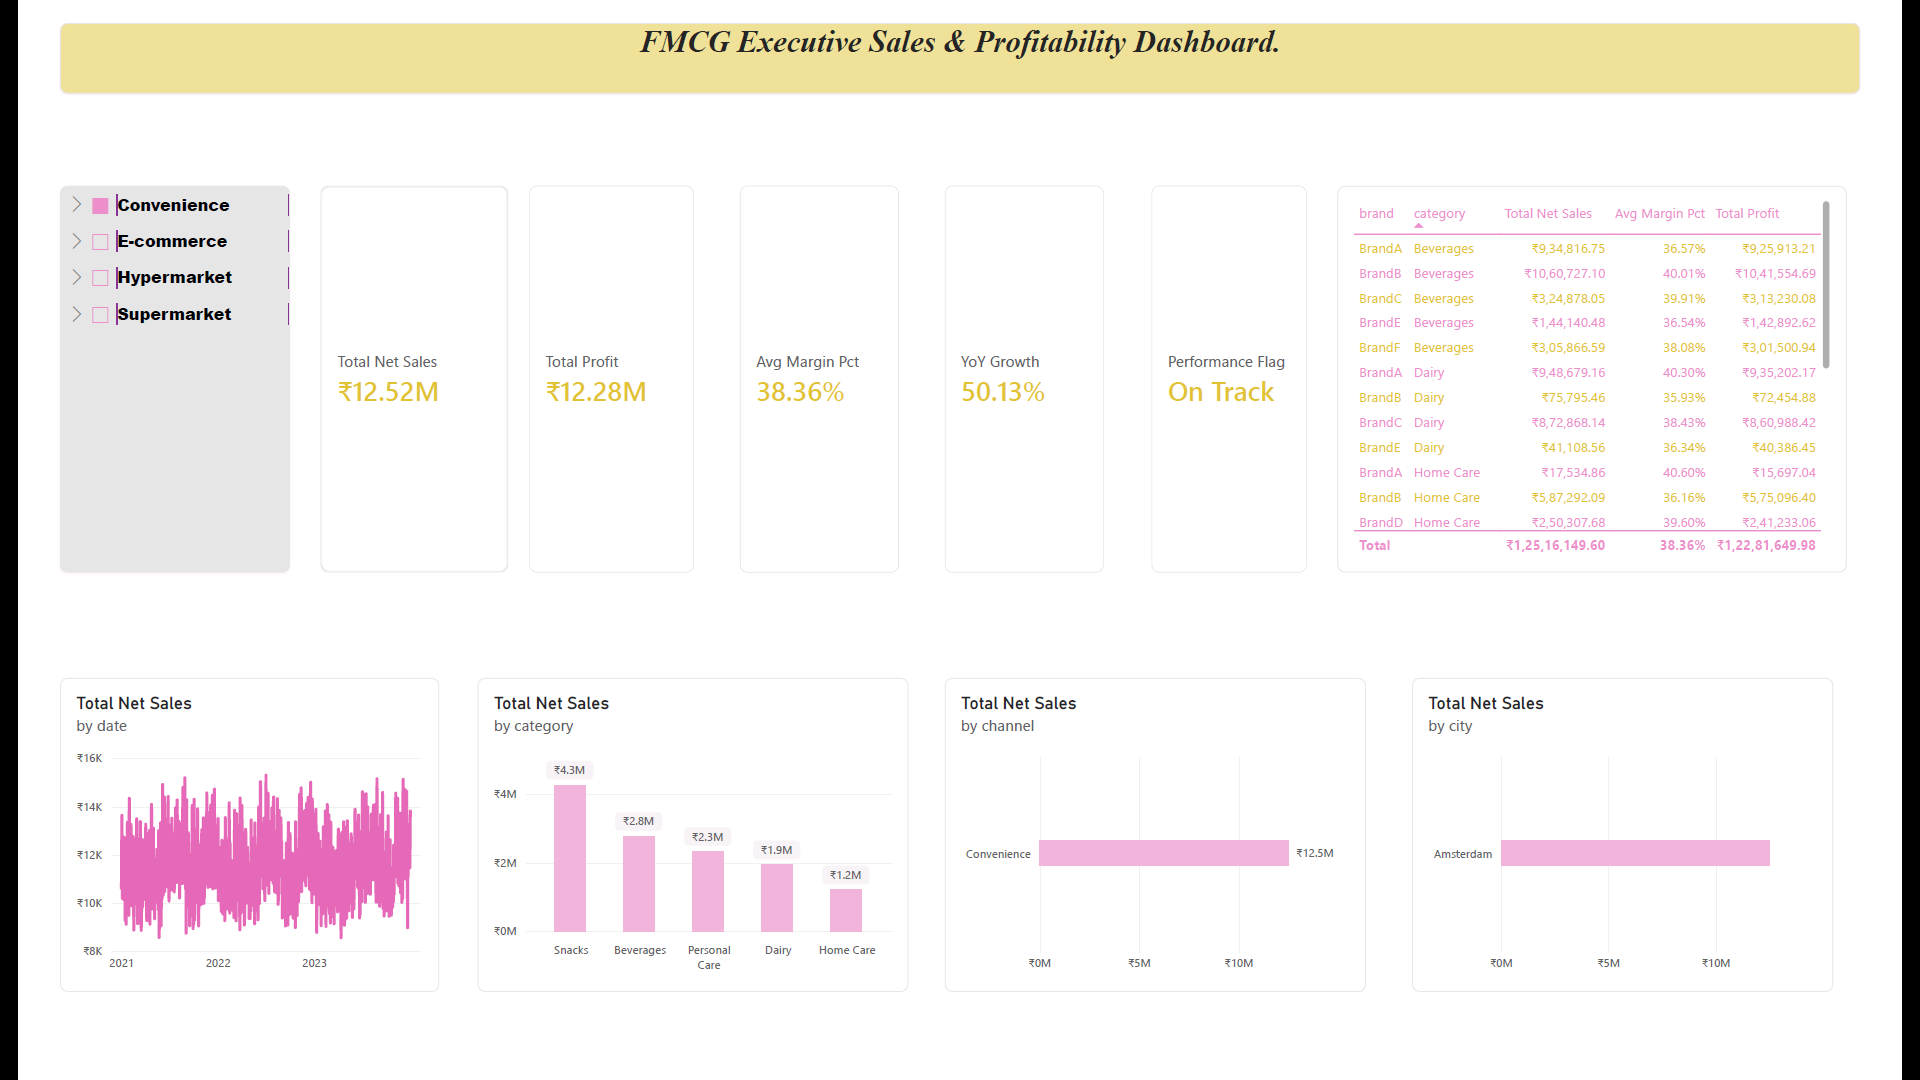

Layout of this report page (visuals, bound fields, positions):
{"tool":"powerbi","page":{"name":"Page 1","canvas":[1920,1080],"ordinal":0},"visuals":[{"type":"cardVisual","fields":{"Data":["fmcg_sales_3years_1M_rows[1].Total Net Sales"]},"box":[292,170,196,404],"z":0},{"type":"cardVisual","fields":{"Data":["fmcg_sales_3years_1M_rows[1].Total Profit"]},"box":[510,170,172,404],"z":1000},{"type":"cardVisual","fields":{"Data":["Orders.Avg Margin Pct"]},"box":[730,170,166,404],"z":2000},{"type":"lineChart","fields":{"Category":["fmcg_sales_3years_1M_rows[1].date.Variation.Date Hierarchy.Year","fmcg_sales_3years_1M_rows[1].date.Variation.Date Hierarchy.Quarter","fmcg_sales_3years_1M_rows[1].date.Variation.Date Hierarchy.Month","fmcg_sales_3years_1M_rows[1].date.Variation.Date Hierarchy.Day"],"Y":["fmcg_sales_3years_1M_rows[1].Total Net Sales"]},"box":[20,684,396,328],"z":3000},{"type":"clusteredBarChart","fields":{"Category":["fmcg_sales_3years_1M_rows[1].channel"],"Y":["fmcg_sales_3years_1M_rows[1].Total Net Sales"]},"box":[944,684,440,328],"z":4000},{"type":"clusteredColumnChart","fields":{"Category":["fmcg_sales_3years_1M_rows[1].category"],"Y":["fmcg_sales_3years_1M_rows[1].Total Net Sales"]},"box":[456,684,450,328],"z":5000},{"type":"tableEx","fields":{"Values":["fmcg_sales_3years_1M_rows[1].brand","fmcg_sales_3years_1M_rows[1].category","fmcg_sales_3years_1M_rows[1].Total Net Sales","Orders.Avg Margin Pct","fmcg_sales_3years_1M_rows[1].Total Profit"]},"box":[1354,170,532,404],"z":6000},{"type":"textbox","box":[682,786,428,96],"z":7000},{"type":"textbox","box":[20,0,1880,74],"z":8000},{"type":"slicer","fields":{"Values":["fmcg_sales_3years_1M_rows[1].channel","fmcg_sales_3years_1M_rows[1].date"]},"box":[20,170,240,404],"z":9000},{"type":"cardVisual","fields":{"Data":["fmcg_sales_3years_1M_rows[1].YoY Growth"]},"box":[944,170,166,404],"z":10000},{"type":"cardVisual","fields":{"Data":["fmcg_sales_3years_1M_rows[1].Performance Flag"]},"box":[1160,170,162,404],"z":11000},{"type":"clusteredBarChart","fields":{"Category":["fmcg_sales_3years_1M_rows[1].city"],"Y":["fmcg_sales_3years_1M_rows[1].Total Net Sales"]},"box":[1432,684,440,328],"z":12000}]}

Visuals, with their boxes in screenshot pixels (x1, y1, x2, y2), scaled from the page's 1920x1080 canvas onto the 1920x1080 screenshot:
cardVisual - fmcg_sales_3years_1M_rows[1].Total Net Sales: Rect(292, 170, 488, 574)
cardVisual - fmcg_sales_3years_1M_rows[1].Total Profit: Rect(510, 170, 682, 574)
cardVisual - Orders.Avg Margin Pct: Rect(730, 170, 896, 574)
lineChart - fmcg_sales_3years_1M_rows[1].date.Variation.Date Hierarchy.Year x fmcg_sales_3years_1M_rows[1].date.Variation.Date Hierarchy.Quarter: Rect(20, 684, 416, 1012)
clusteredBarChart - fmcg_sales_3years_1M_rows[1].channel x fmcg_sales_3years_1M_rows[1].Total Net Sales: Rect(944, 684, 1384, 1012)
clusteredColumnChart - fmcg_sales_3years_1M_rows[1].category x fmcg_sales_3years_1M_rows[1].Total Net Sales: Rect(456, 684, 906, 1012)
tableEx - fmcg_sales_3years_1M_rows[1].brand x fmcg_sales_3years_1M_rows[1].category: Rect(1354, 170, 1886, 574)
textbox: Rect(682, 786, 1110, 882)
textbox: Rect(20, 0, 1900, 74)
slicer - fmcg_sales_3years_1M_rows[1].channel x fmcg_sales_3years_1M_rows[1].date: Rect(20, 170, 260, 574)
cardVisual - fmcg_sales_3years_1M_rows[1].YoY Growth: Rect(944, 170, 1110, 574)
cardVisual - fmcg_sales_3years_1M_rows[1].Performance Flag: Rect(1160, 170, 1322, 574)
clusteredBarChart - fmcg_sales_3years_1M_rows[1].city x fmcg_sales_3years_1M_rows[1].Total Net Sales: Rect(1432, 684, 1872, 1012)
